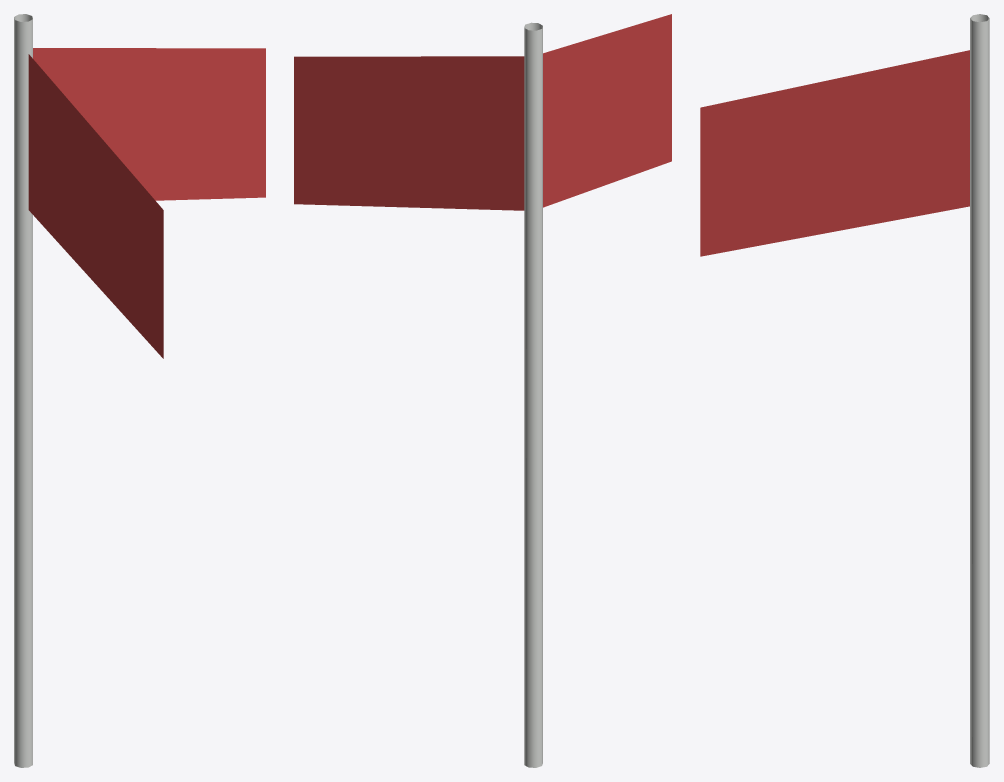
The model's file is golf_flag_01.glb.
The picture shows the model from 3 angles, left to right: view 1: azimuth 30°, elevation 25°; view 2: azimuth 150°, elevation 25°; view 3: azimuth 270°, elevation 25°; orthographic projection.
Bounding box in the file's own units: 0.352 × 1 × 0.352.
